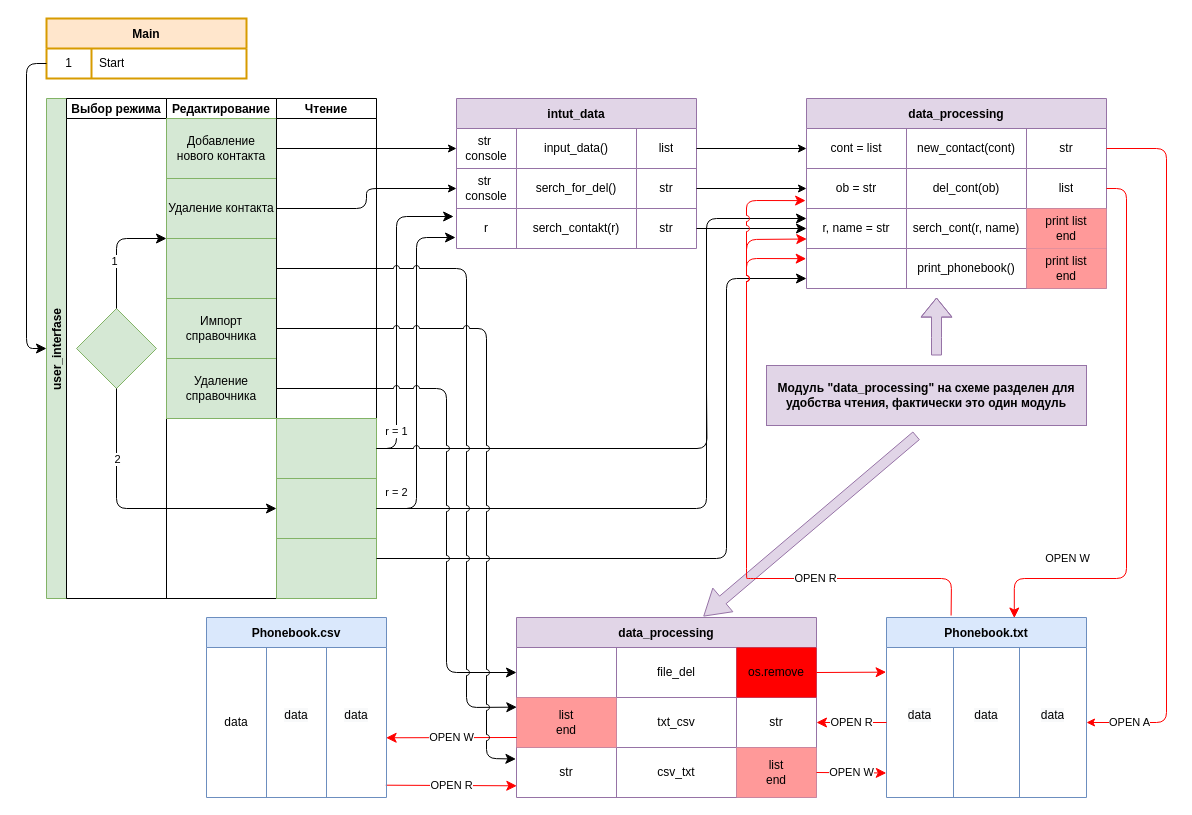
This 1192x815 diagram has some shape labels left out. Each missing label, with the centre of its shape:
1 or 2: point 116,348
Поиск контакта по имени: point 326,448
Поиск контакта по телефону: point 326,508
Просмотр всего справочника: point 326,568
Экспорт справочника: point 221,268
